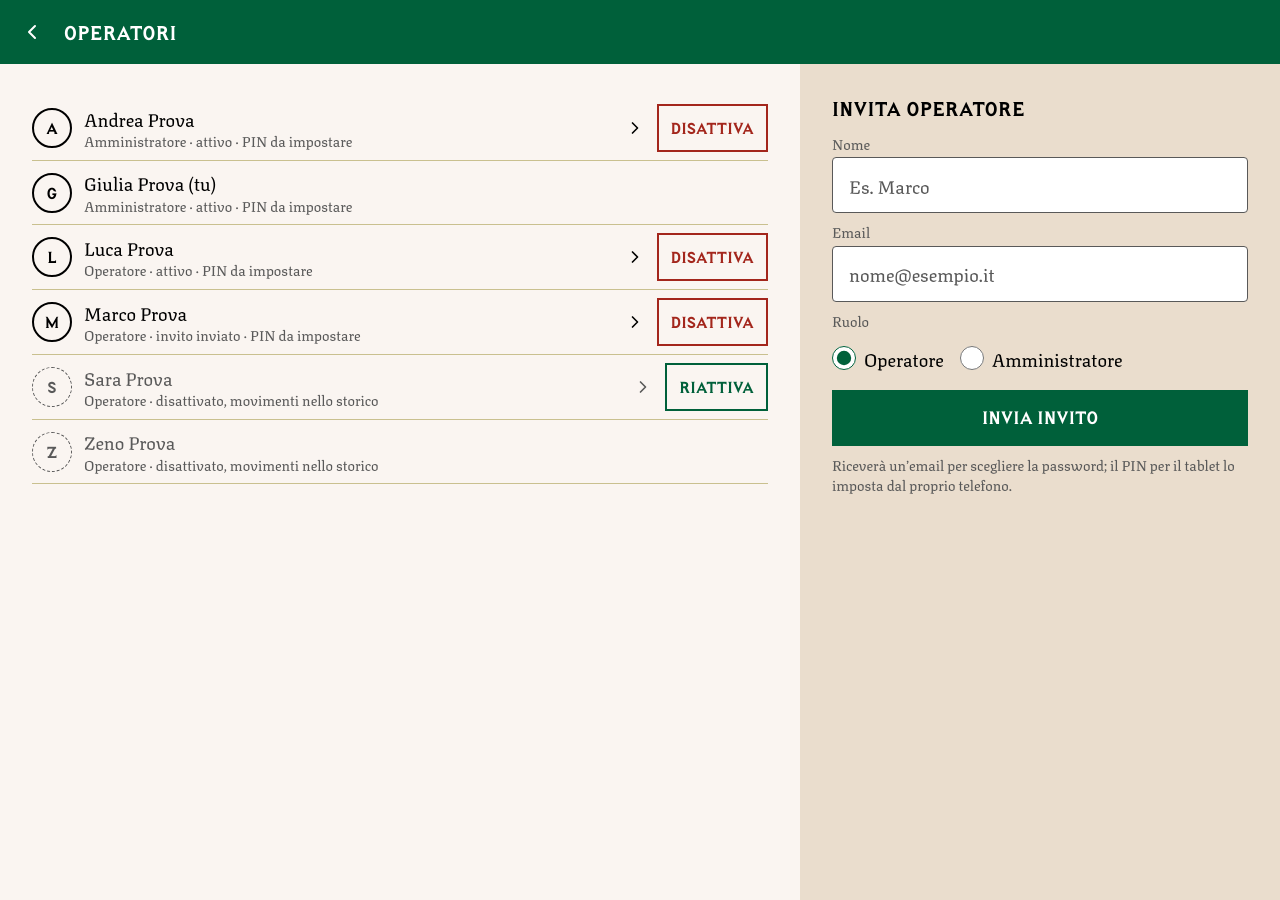
Test: OperatorDialog: opening it › "Chiudi" returns the focus to the row
Click the button "Luca Prova Operatore · attivo · PIN da impostare".
click(129, 247)  # box [84,233,644,281]
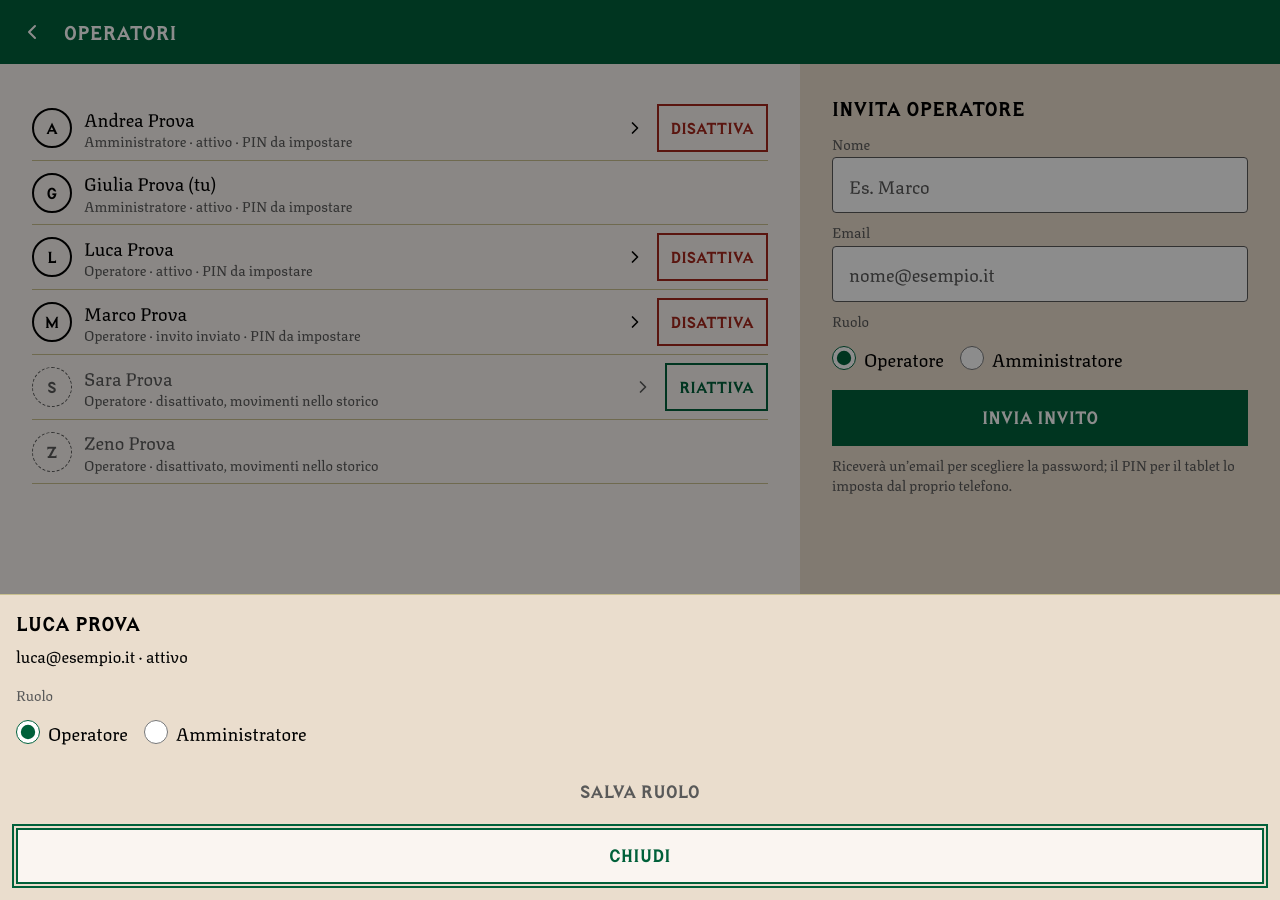
Click the button "Chiudi".
click(640, 856)  # box [16,828,1264,884]
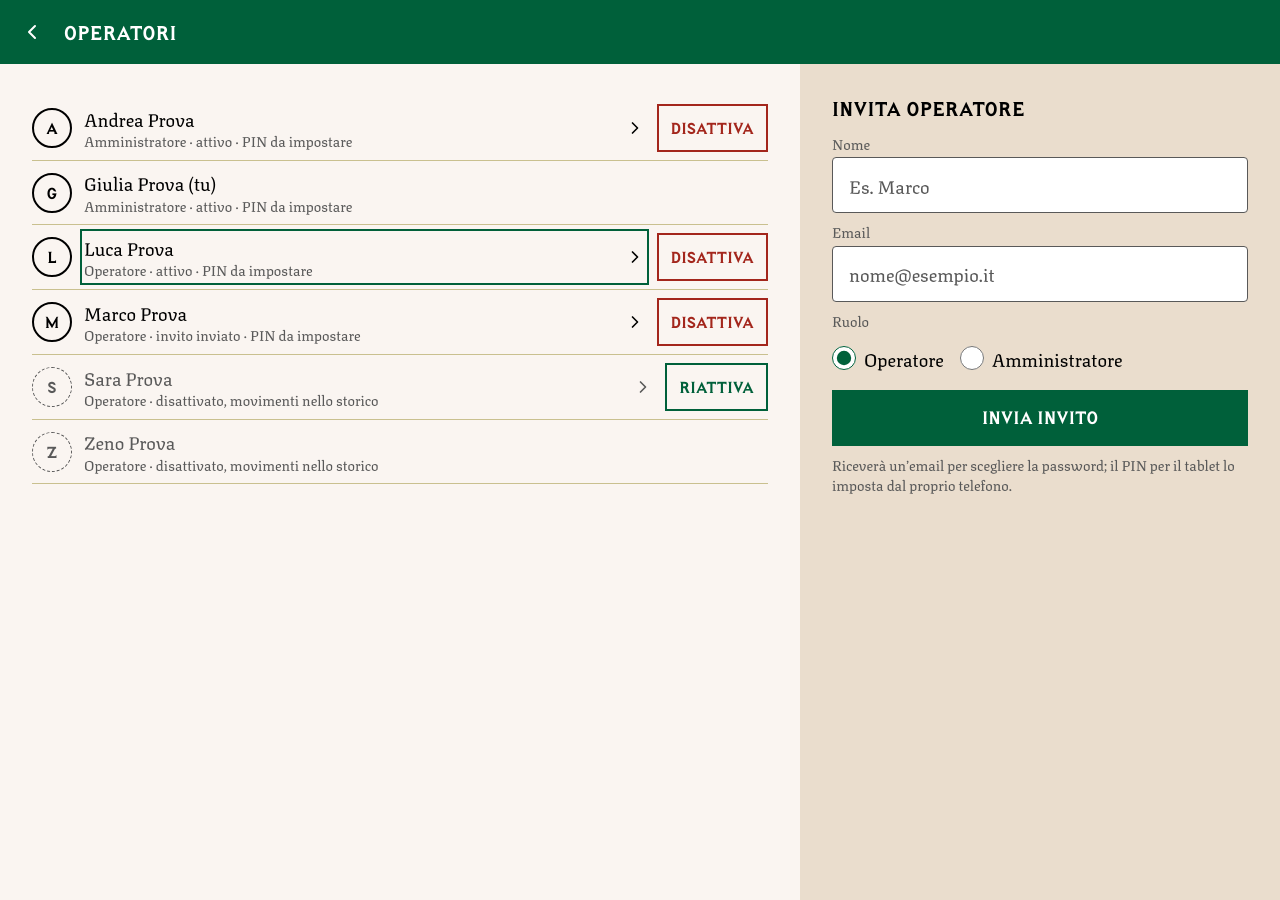
Check: the dialog is gone
